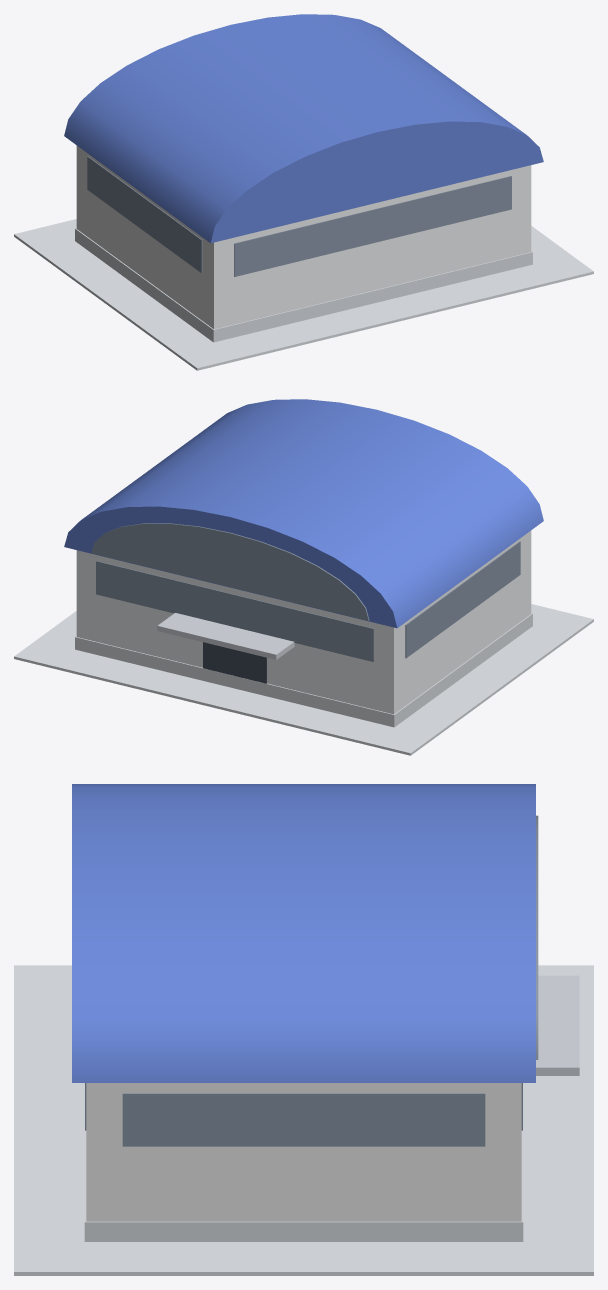
The model's file is gym.glb.
3 views of the same model, one above another, from view 1: azimuth 30°, elevation 25°; view 2: azimuth 150°, elevation 25°; view 3: azimuth 270°, elevation 25° (orthographic). The views are drawn at different scales.
Visible parts, largest first — view 1: Body; view 2: Body; view 3: Body.
Part boxes in pixels (x1=…): Body: x1=14, y1=14, x2=593, y2=370; Body: x1=14, y1=399, x2=593, y2=755; Body: x1=14, y1=784, x2=593, y2=1275.
Bounding box in the file's own units: 20 × 8.52 × 16.
